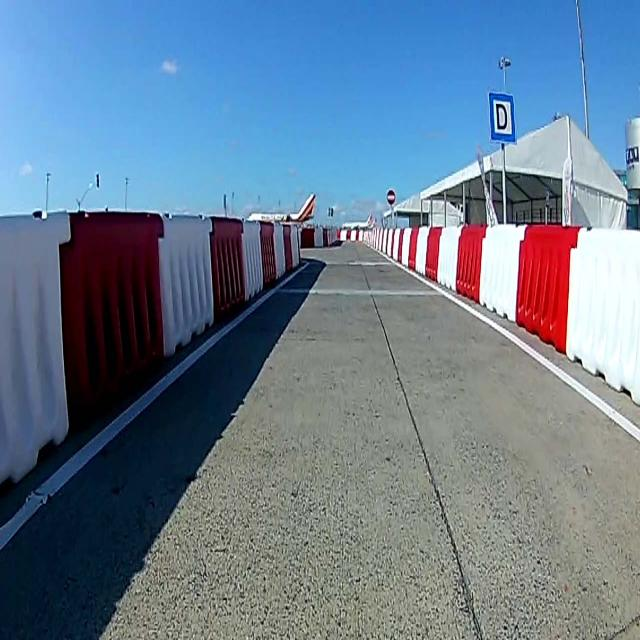durak: (488, 91, 516, 144)
girisyok: (386, 190, 396, 206)
